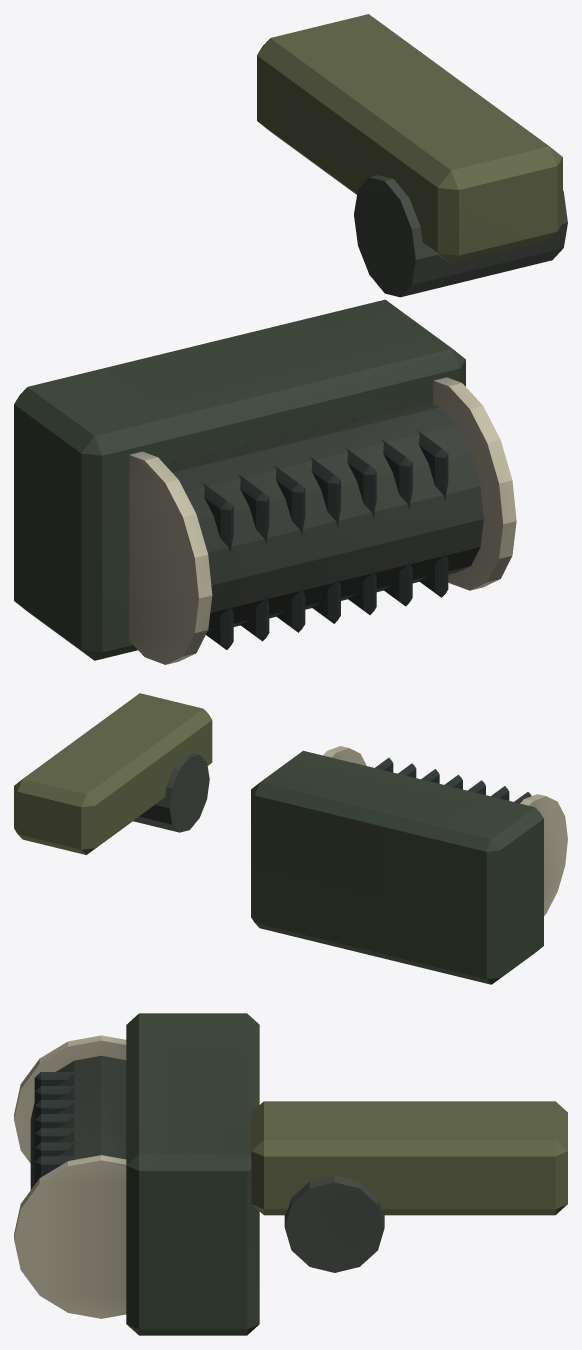
The model's file is module_recovery.glb.
The picture shows the model from 3 angles, top to bottom: view 1: azimuth 30°, elevation 25°; view 2: azimuth 150°, elevation 25°; view 3: azimuth 270°, elevation 25°; orthographic projection. The views are drawn at different scales.
Parts seen in each view (by area): view 1: Winch_frame, Folded_recovery_boom, Winch_drum, Winch_flange, Boom_pivot, Winch_flange.001, Cable_wrap.003, Cable_wrap.002, Cable_wrap, Cable_wrap.006, Cable_wrap.001, Cable_wrap.005 (+1 smaller); view 2: Winch_frame, Folded_recovery_boom, Boom_pivot, Winch_flange, Winch_flange.001; view 3: Winch_frame, Folded_recovery_boom, Winch_flange.001, Boom_pivot, Winch_drum, Winch_flange, Cable_wrap, Cable_wrap.006, Cable_wrap.004, Cable_wrap.005, Cable_wrap.003, Cable_wrap.002 (+1 smaller).
Part boxes in pixels (<box>): Winch_frame: <box>14,299,465,660</box>; Folded_recovery_boom: <box>257,14,562,263</box>; Winch_drum: <box>165,401,483,631</box>; Winch_flange: <box>129,451,212,664</box>; Boom_pivot: <box>354,175,567,297</box>; Winch_flange.001: <box>433,377,516,590</box>; Cable_wrap.003: <box>245,444,305,632</box>; Cable_wrap.002: <box>209,453,269,641</box>; Cable_wrap: <box>388,409,448,597</box>; Cable_wrap.006: <box>352,418,412,606</box>; Cable_wrap.001: <box>173,462,233,649</box>; Cable_wrap.005: <box>316,427,376,614</box>; Winch_frame: <box>251,750,543,984</box>; Folded_recovery_boom: <box>14,693,212,854</box>; Boom_pivot: <box>133,753,209,832</box>; Winch_flange: <box>520,794,567,915</box>; Winch_flange.001: <box>323,746,366,765</box>; Winch_frame: <box>126,1013,259,1335</box>; Folded_recovery_boom: <box>251,1101,567,1215</box>; Winch_flange.001: <box>14,1155,126,1318</box>; Boom_pivot: <box>284,1175,384,1272</box>; Winch_drum: <box>30,1055,126,1189</box>; Winch_flange: <box>14,1035,126,1163</box>; Cable_wrap: <box>34,1156,126,1184</box>; Cable_wrap.006: <box>34,1142,126,1161</box>; Cable_wrap.004: <box>34,1114,126,1133</box>; Cable_wrap.005: <box>34,1128,126,1147</box>; Cable_wrap.003: <box>34,1100,126,1119</box>; Cable_wrap.002: <box>34,1086,126,1105</box>.
Bounding box in the file's own units: 0.645 × 0.35 × 0.665.
